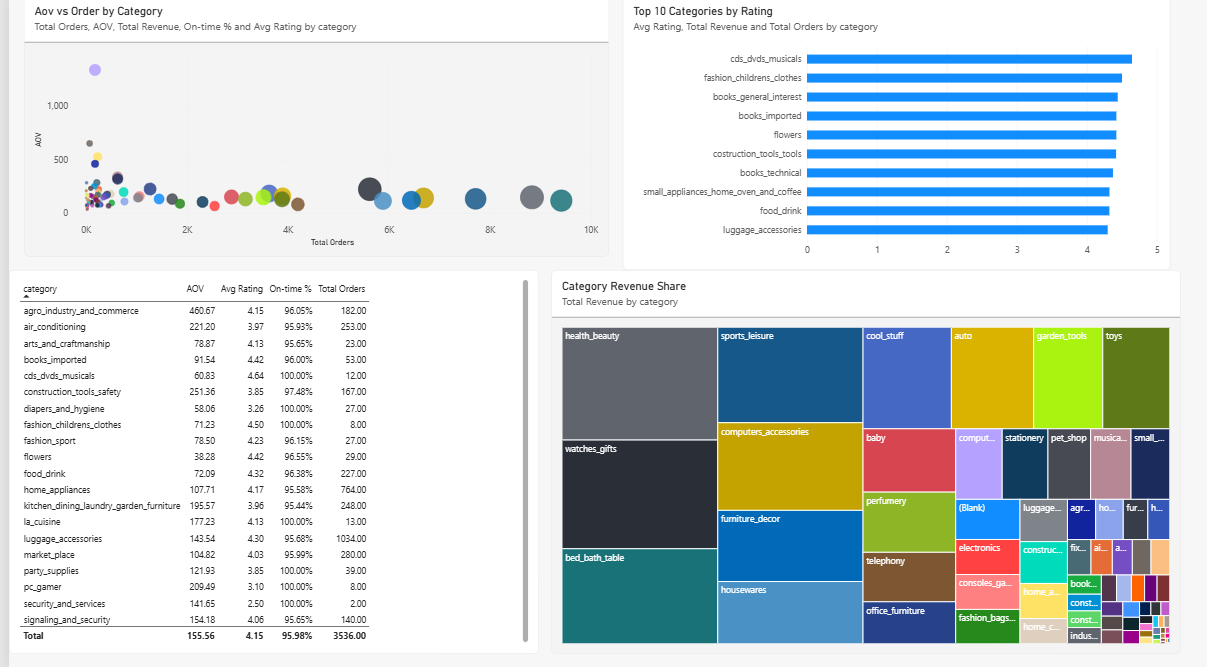

What the dashboard file says about the page in this screenshot:
{"tool":"powerbi","page":{"name":"Category & Month","canvas":[1920,1080],"ordinal":2},"visuals":[{"type":"treemap","title":"Category  Revenue Share","fields":{"Group":["public bi_fact_sales.category"],"Values":["public bi_fact_sales.Total Revenue"]},"box":[868,440,1006,614],"z":0},{"type":"scatterChart","title":"Aov vs Order by Category","fields":{"Series":["public bi_fact_sales.category"],"Size":["public bi_fact_sales.Total Revenue"],"X":["public bi_fact_sales.Total Orders"],"Y":["public bi_fact_sales.AOV"]},"box":[24,0,936,418],"z":1},{"type":"clusteredBarChart","title":"Top 10 Categories by Rating","fields":{"Category":["public bi_fact_sales.category"],"Y":["public bi_fact_sales.Avg Rating"]},"box":[982,0,876,440],"z":2},{"type":"tableEx","fields":{"Values":["public bi_fact_sales.category","public bi_fact_sales.AOV","public bi_fact_sales.Avg Rating","public bi_fact_sales.On-time %","public bi_fact_sales.Total Orders"]},"box":[0,440,848,614],"z":3}]}

Visuals, with their boxes in screenshot pixels (x1, y1, x2, y2), scaled from the page's 1920x1080 canvas onto the 1207x667 screenshot:
"Category  Revenue Share" treemap: detection(546, 272, 1178, 651)
"Aov vs Order by Category" scatterChart: detection(15, 0, 604, 258)
"Top 10 Categories by Rating" clusteredBarChart: detection(617, 0, 1168, 272)
tableEx - public bi_fact_sales.category x public bi_fact_sales.AOV: detection(0, 272, 533, 651)
